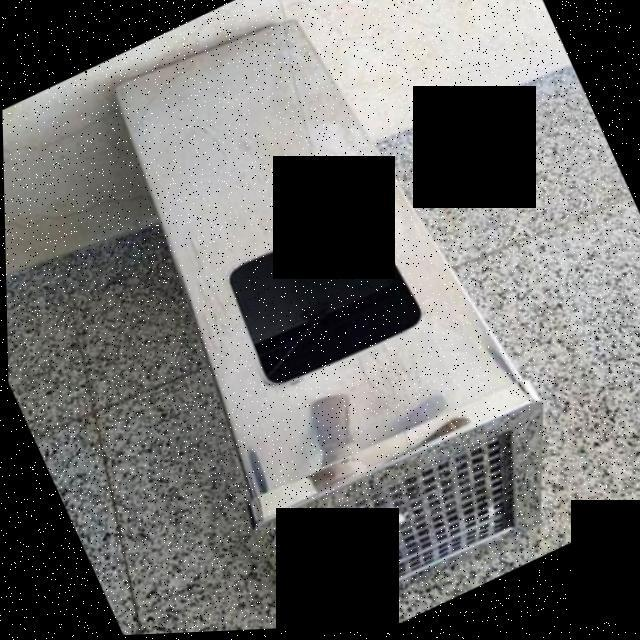bin: (50, 0, 604, 638)
